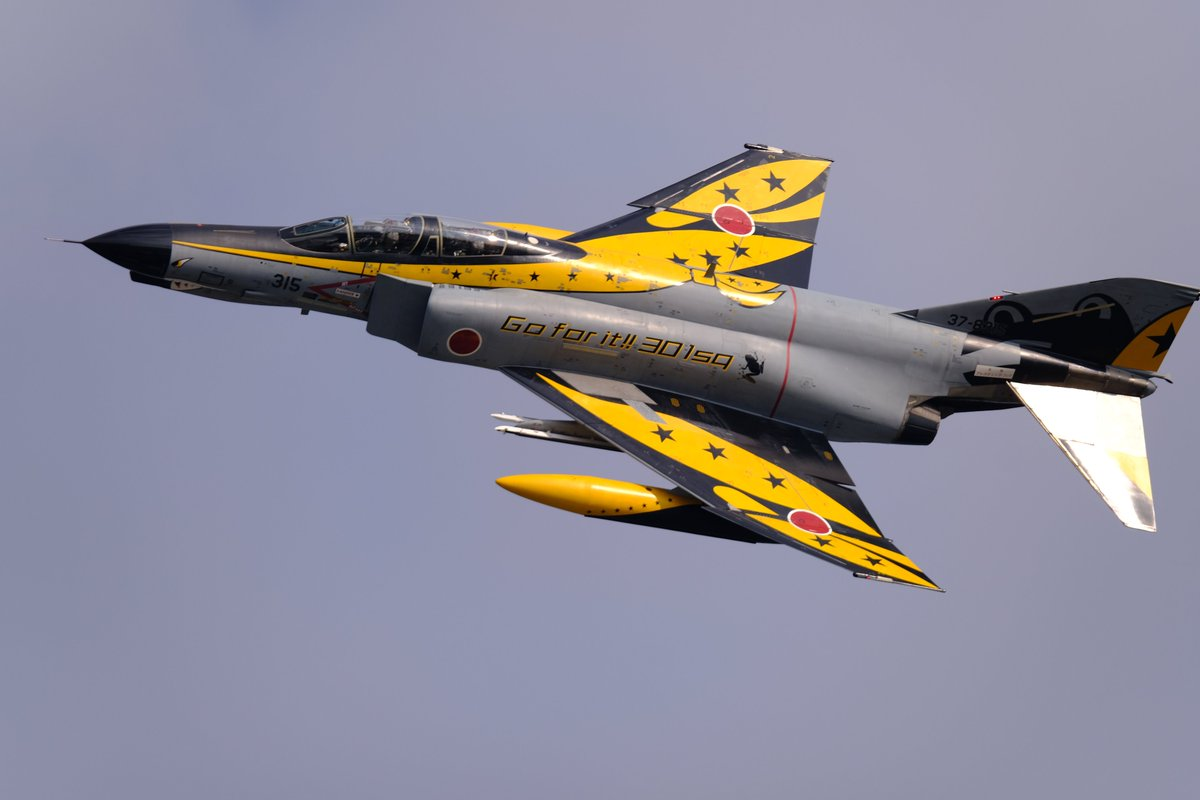F4: (43, 142, 1200, 593)
